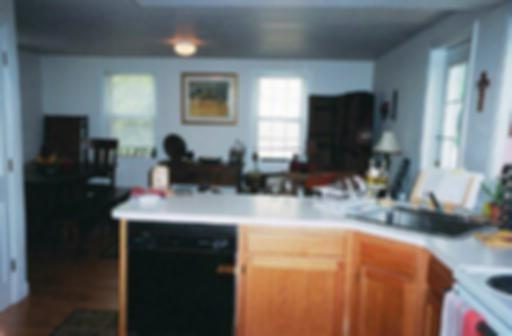Electrodomestico: (124, 215, 236, 335)
Lavaplatos: (339, 196, 490, 243)
